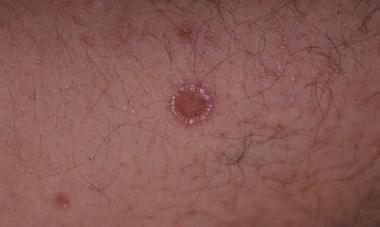annular lichen planus: (158, 68, 234, 139)
